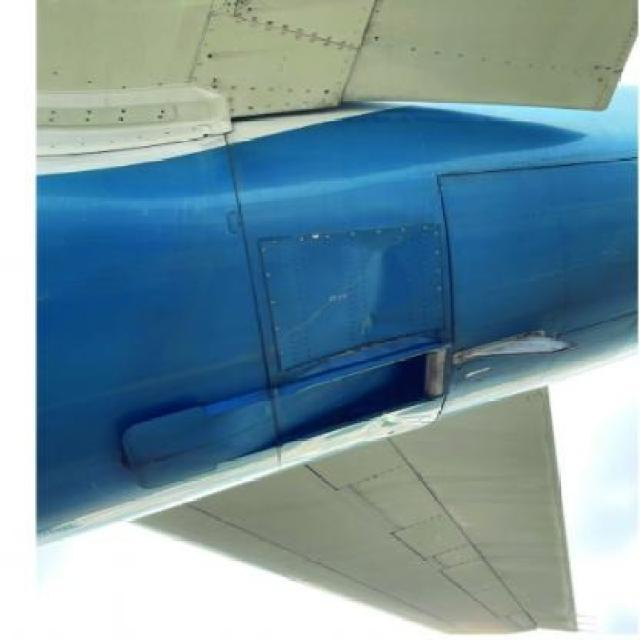dent: (338, 223, 403, 328)
